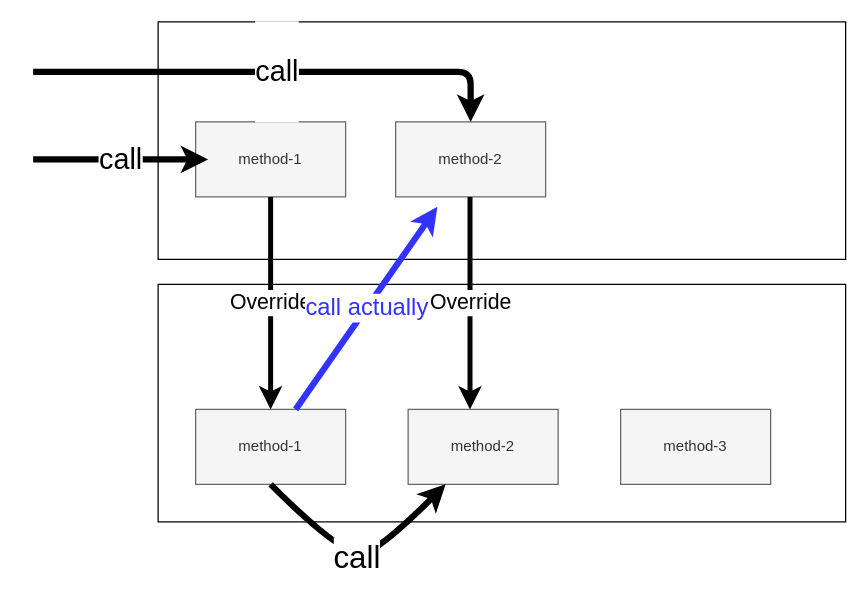
Image size: 868x596. Some labels were removed from this diagram. Each missing label, with the box of its shape:
Child class: (157, 21, 846, 259)
Parent class: (157, 283, 846, 522)
